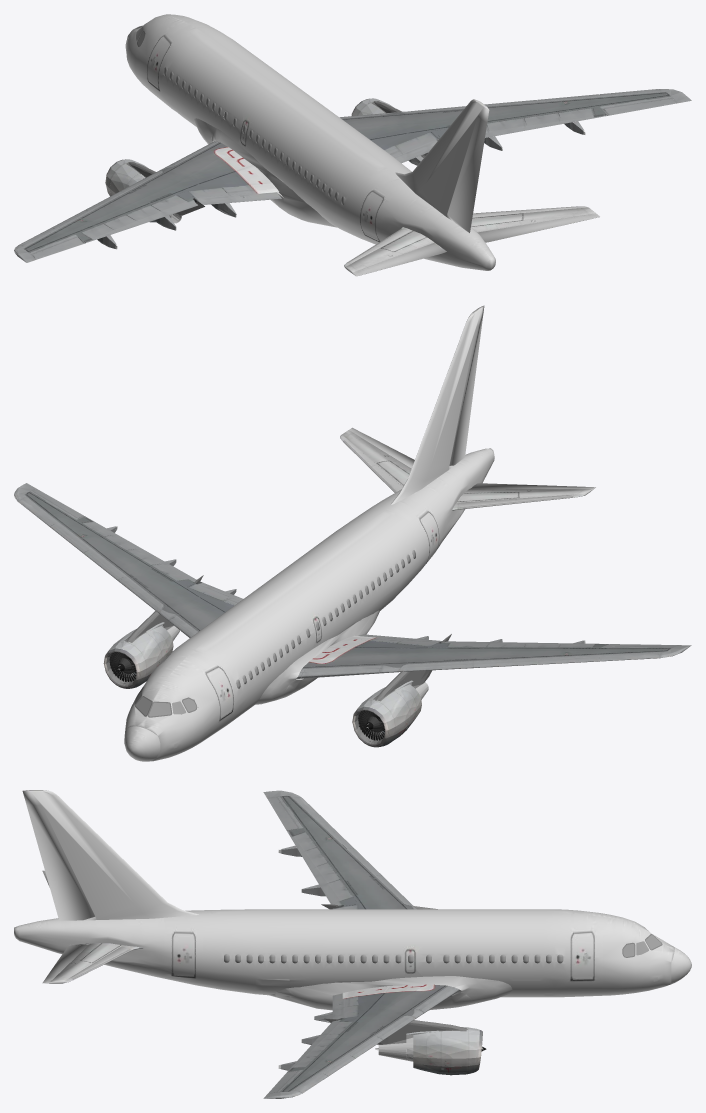
3 views of the same model, one above another, from view 1: azimuth 30°, elevation 25°; view 2: azimuth 150°, elevation 25°; view 3: azimuth 270°, elevation 25° (orthographic). The views are drawn at different scales.
Visible parts, largest first — view 1: rootNode; view 2: rootNode, casing_001; view 3: rootNode.
Boxes of the visible parts, bbox=[...] form: rootNode: bbox=[14, 14, 691, 276]; rootNode: bbox=[14, 305, 691, 761]; casing_001: bbox=[106, 626, 428, 744]; rootNode: bbox=[14, 790, 691, 1098].
Bounding box in the file's own units: 33.91 × 11.72 × 31.71.
Materials: 5 (5 with a texture image).
